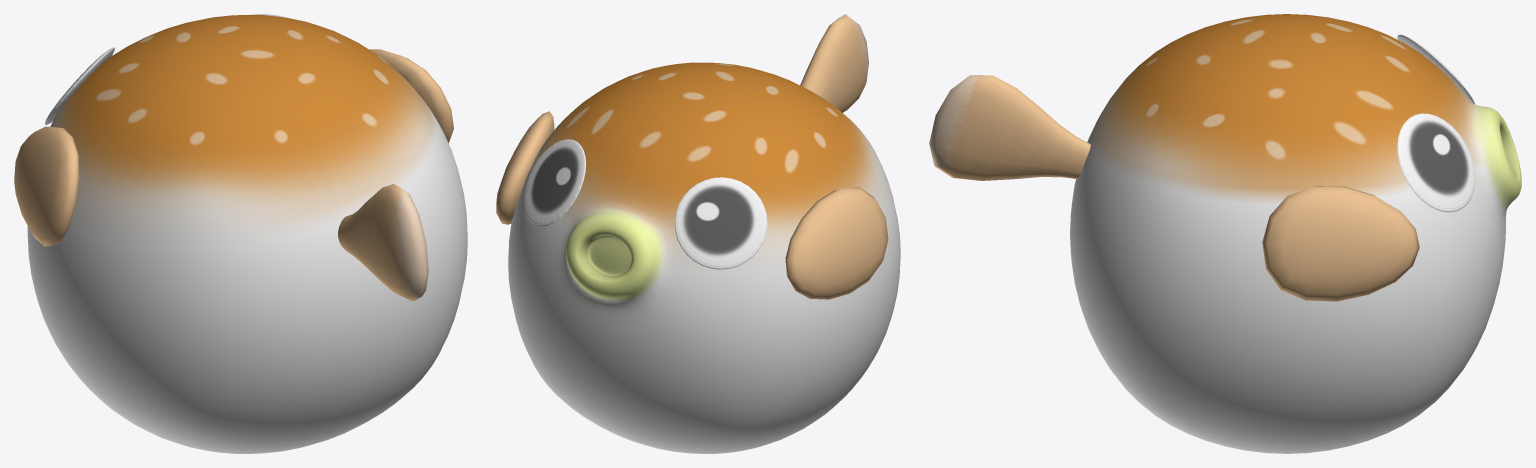
The model's file is fugu.glb.
The picture shows the model from 3 angles, left to right: view 1: azimuth 30°, elevation 25°; view 2: azimuth 150°, elevation 25°; view 3: azimuth 270°, elevation 25°; orthographic projection. The views are drawn at different scales.
Visible parts, largest first — view 1: Cube, 立方体, 立方体.001, 球; view 2: Cube, 立方体, 球, 立方体.001; view 3: Cube, 立方体, 立方体.001, 球.
Part boxes in pixels (left/top/right/bottom): Cube: left=27, top=15, right=467, bottom=453; 立方体: left=14, top=49, right=453, bottom=246; 立方体.001: left=338, top=183, right=428, bottom=301; 球: left=44, top=14, right=289, bottom=124; Cube: left=508, top=62, right=900, bottom=453; 立方体: left=496, top=111, right=888, bottom=299; 球: left=523, top=139, right=767, bottom=269; 立方体.001: left=800, top=14, right=868, bottom=112; Cube: left=1070, top=14, right=1521, bottom=453; 立方体: left=1262, top=186, right=1419, bottom=301; 立方体.001: left=929, top=75, right=1090, bottom=180; 球: left=1397, top=34, right=1475, bottom=212.
Bounding box in the file's own units: 1.71 × 1.6 × 2.19.
1 material, 1 textured.
